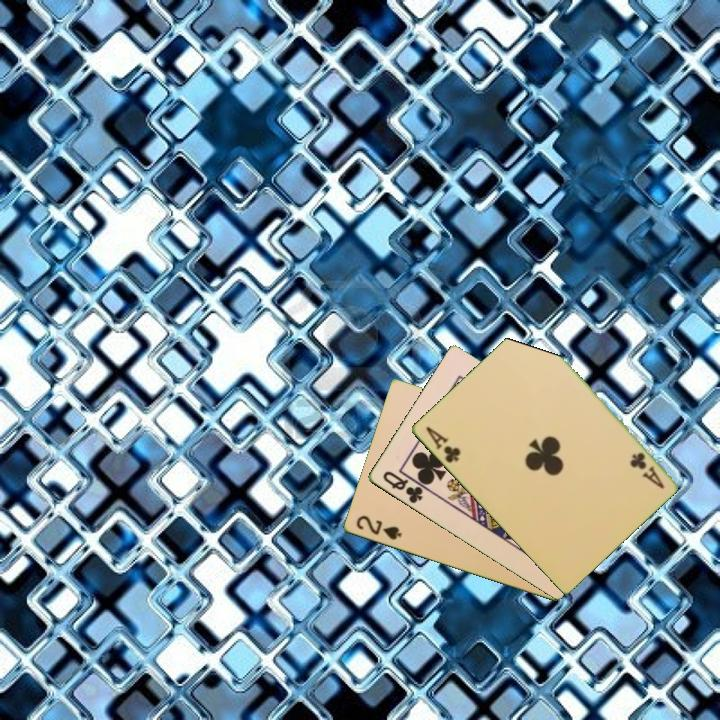2s: (352, 512, 404, 543)
Ac: (421, 423, 463, 466), (625, 449, 667, 492)
Qc: (379, 467, 426, 507)
